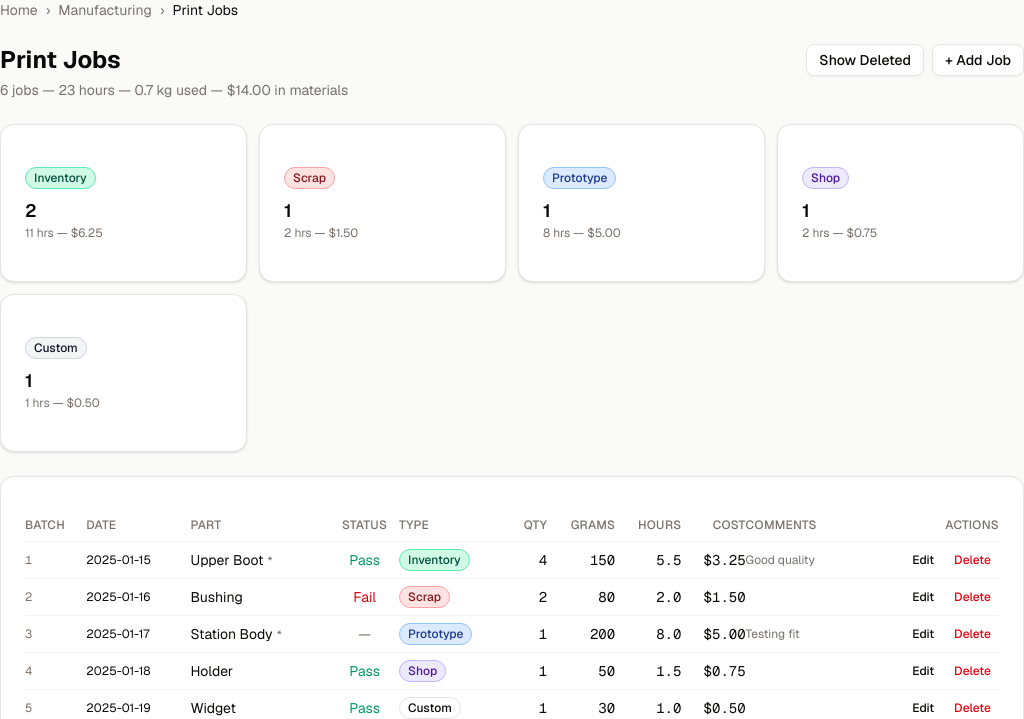
PrintJobsPage › validates zero batchId on add
Click the button "+ Add Job". click: [978, 60]
box: [932,44,1023,76]
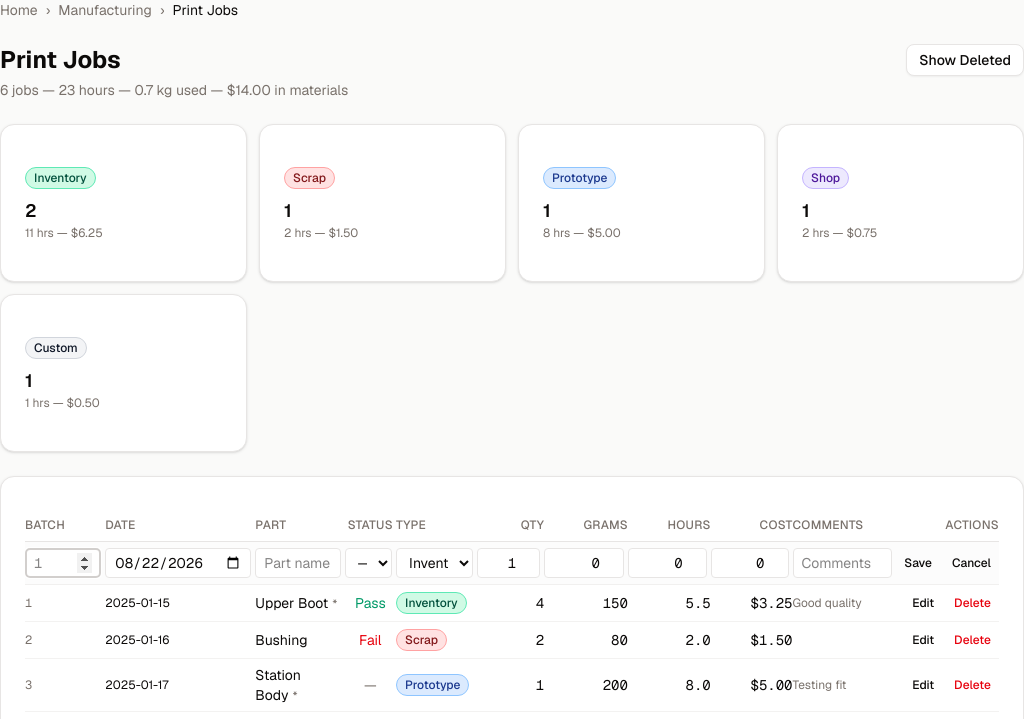
Type "0" into the number field with placeholder "1". click: [63, 563]
box: [25,548,101,578]
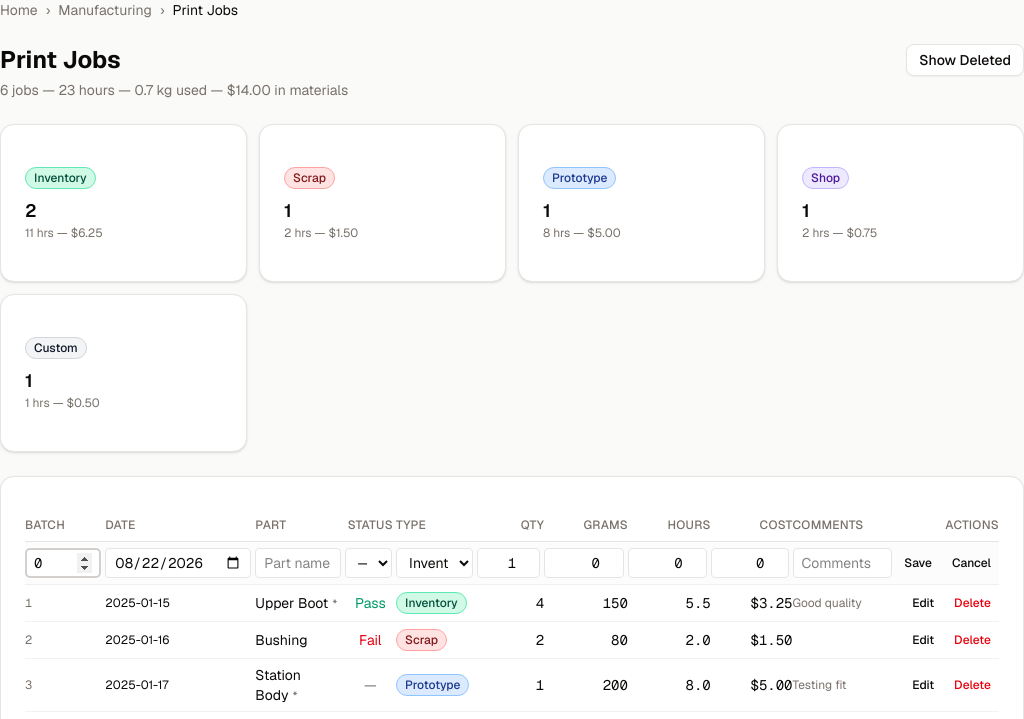
Type "Some Part" into the field with placeholder "Part name". click: [298, 563]
box: [255,548,340,578]
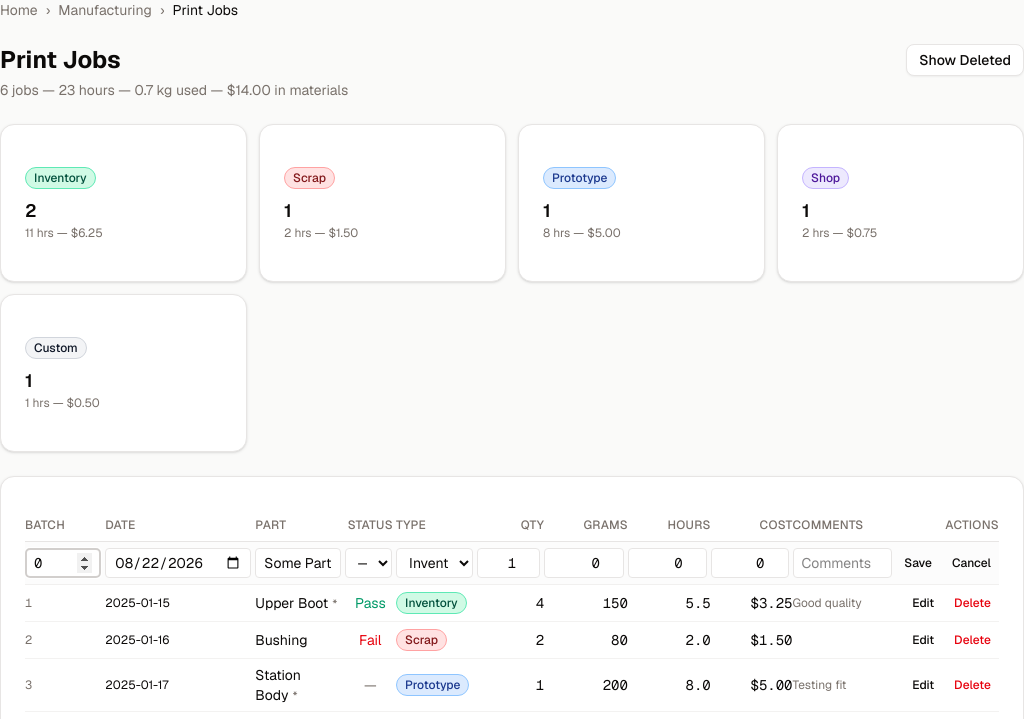
Click the button "Save". click: [918, 563]
box: [896,551,940,575]
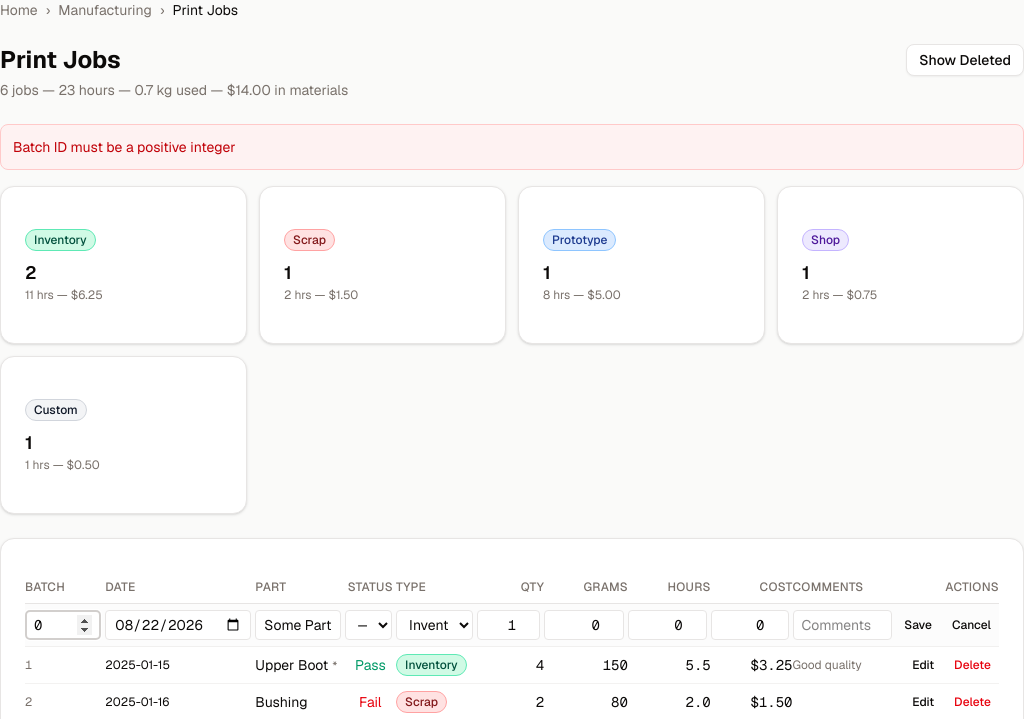
Check: the text "Batch ID must be a positive integer" is shown, box [0,124,1023,170]
